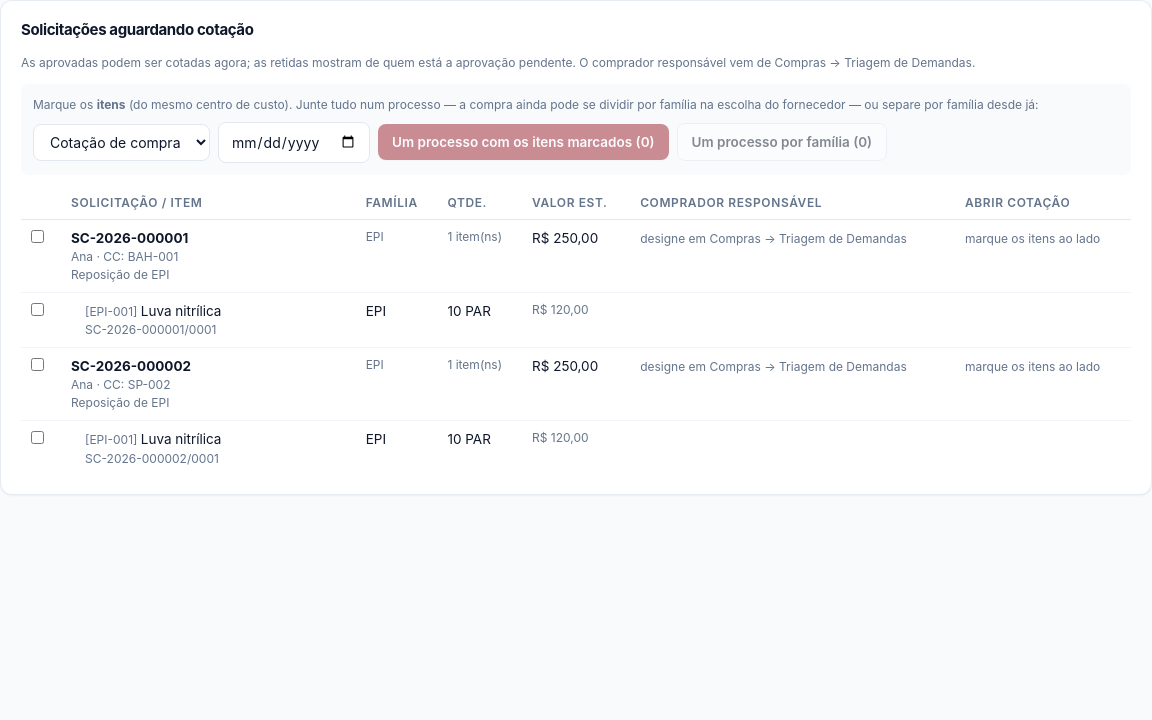
tela Abrir Cotação › itens de centros diferentes travam a abertura e avisam
Click the checkbox named "Marcar Luva nitrílica de SC-2026-000001": (38, 309) [31,303,44,316]
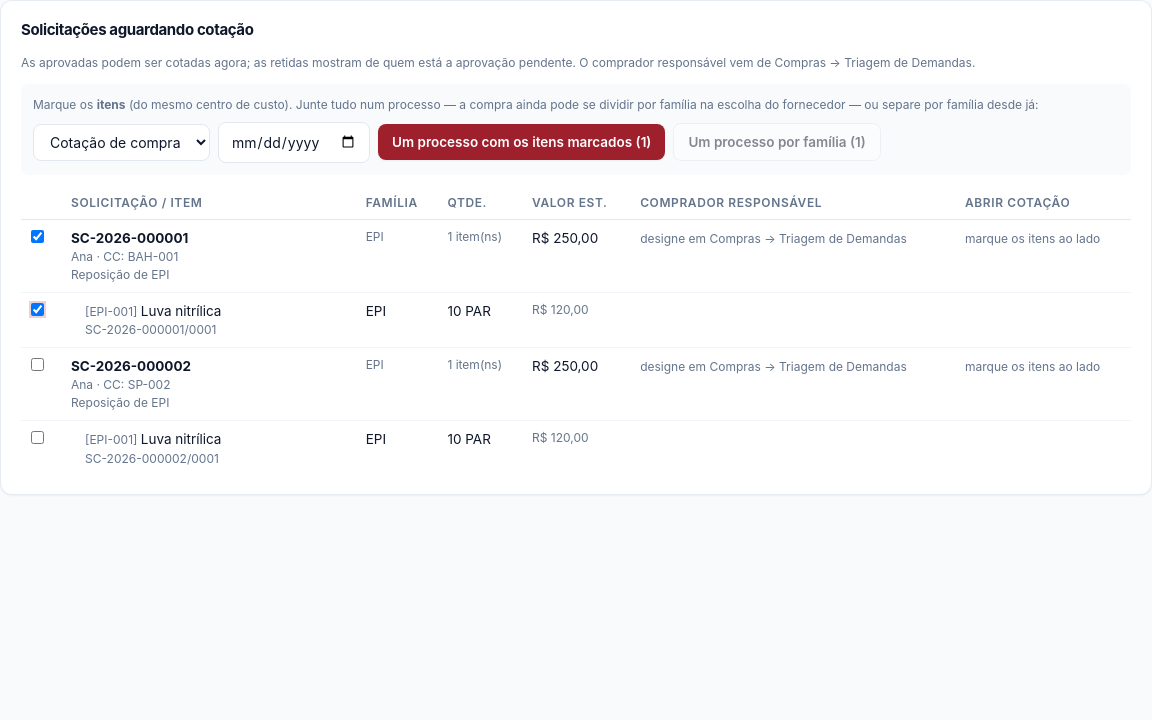
Click the checkbox named "Marcar Luva nitrílica de SC-2026-000002": (38, 438) [31,431,44,444]
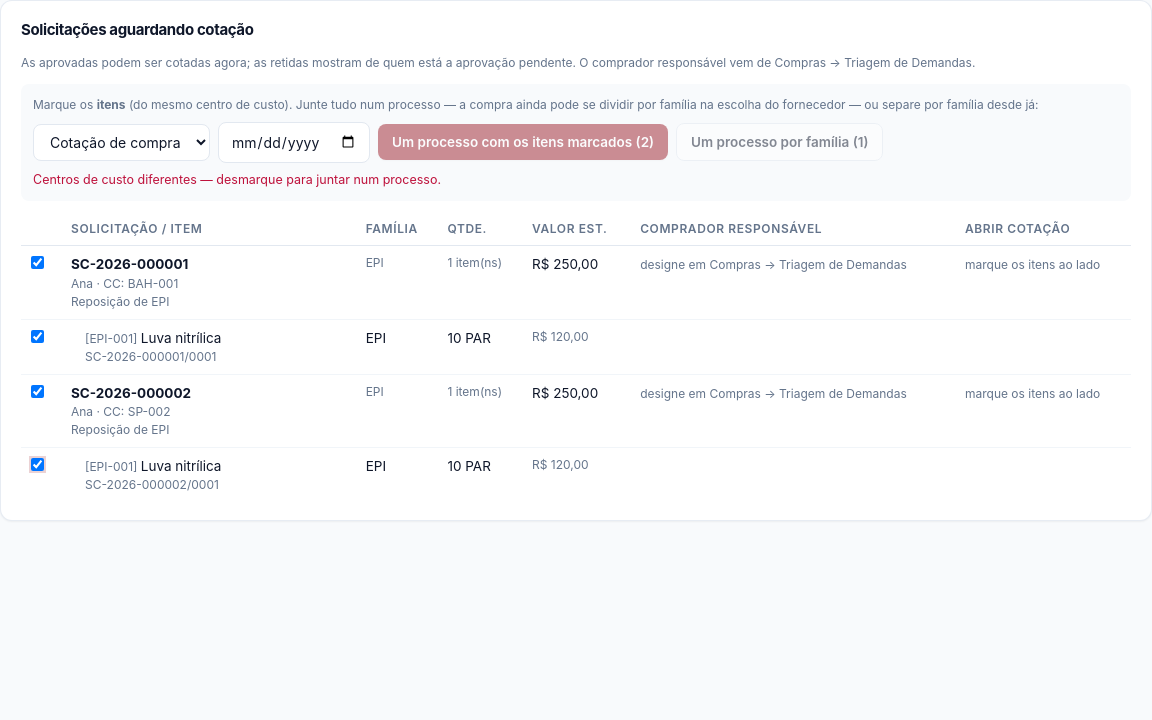
Check: the text "Centros de custo diferentes" is shown, box [33,172,441,186]
Check: the button "Um processo com os itens marcados (2)" is disabled, box [378,124,668,160]
